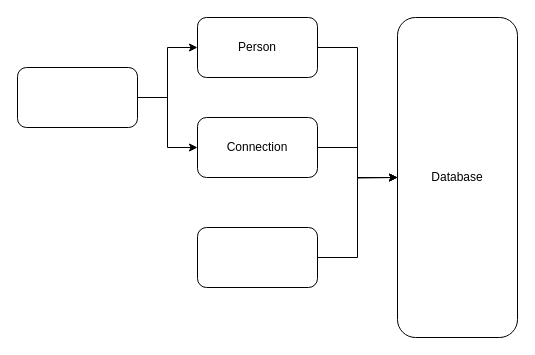
Some shapes in this 535 by 355 pixel diagram are drawn without their labels. The box of each missing label's shape, as (x1, y1, x2, y2) in pixels:
Frontend: (16, 66, 138, 128)
Location: (196, 226, 318, 288)
